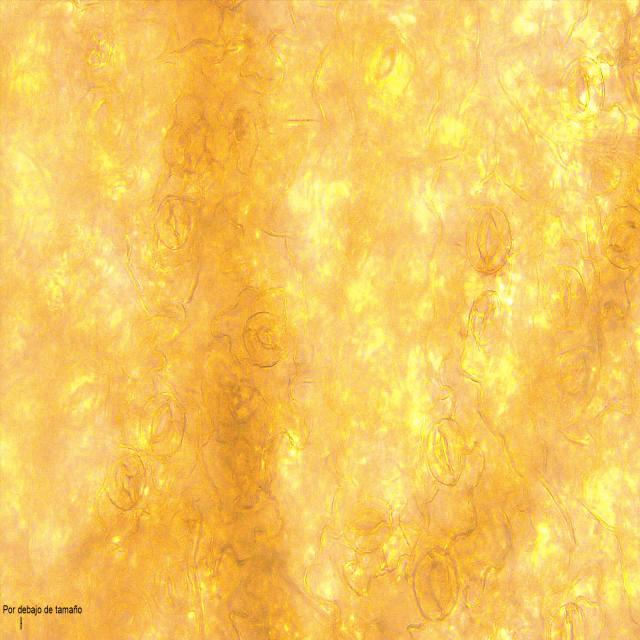Stomata: (413, 546, 459, 622), (138, 391, 187, 460), (465, 204, 513, 274), (560, 55, 606, 123), (426, 416, 467, 487), (345, 496, 392, 553), (243, 310, 288, 369), (548, 267, 588, 333), (104, 452, 147, 510), (601, 205, 640, 268), (154, 195, 192, 251), (468, 290, 505, 346), (152, 562, 189, 615), (556, 350, 588, 395)
